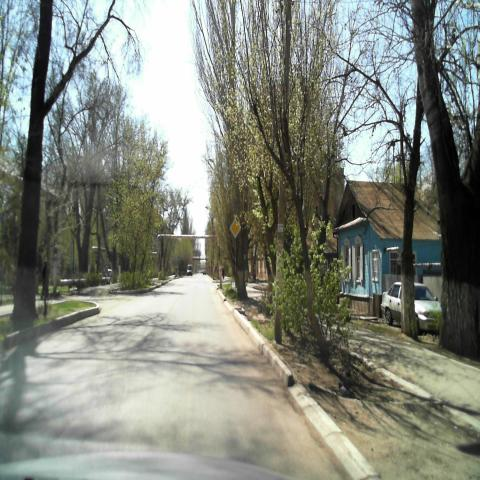2_1: (230, 216, 242, 240)
